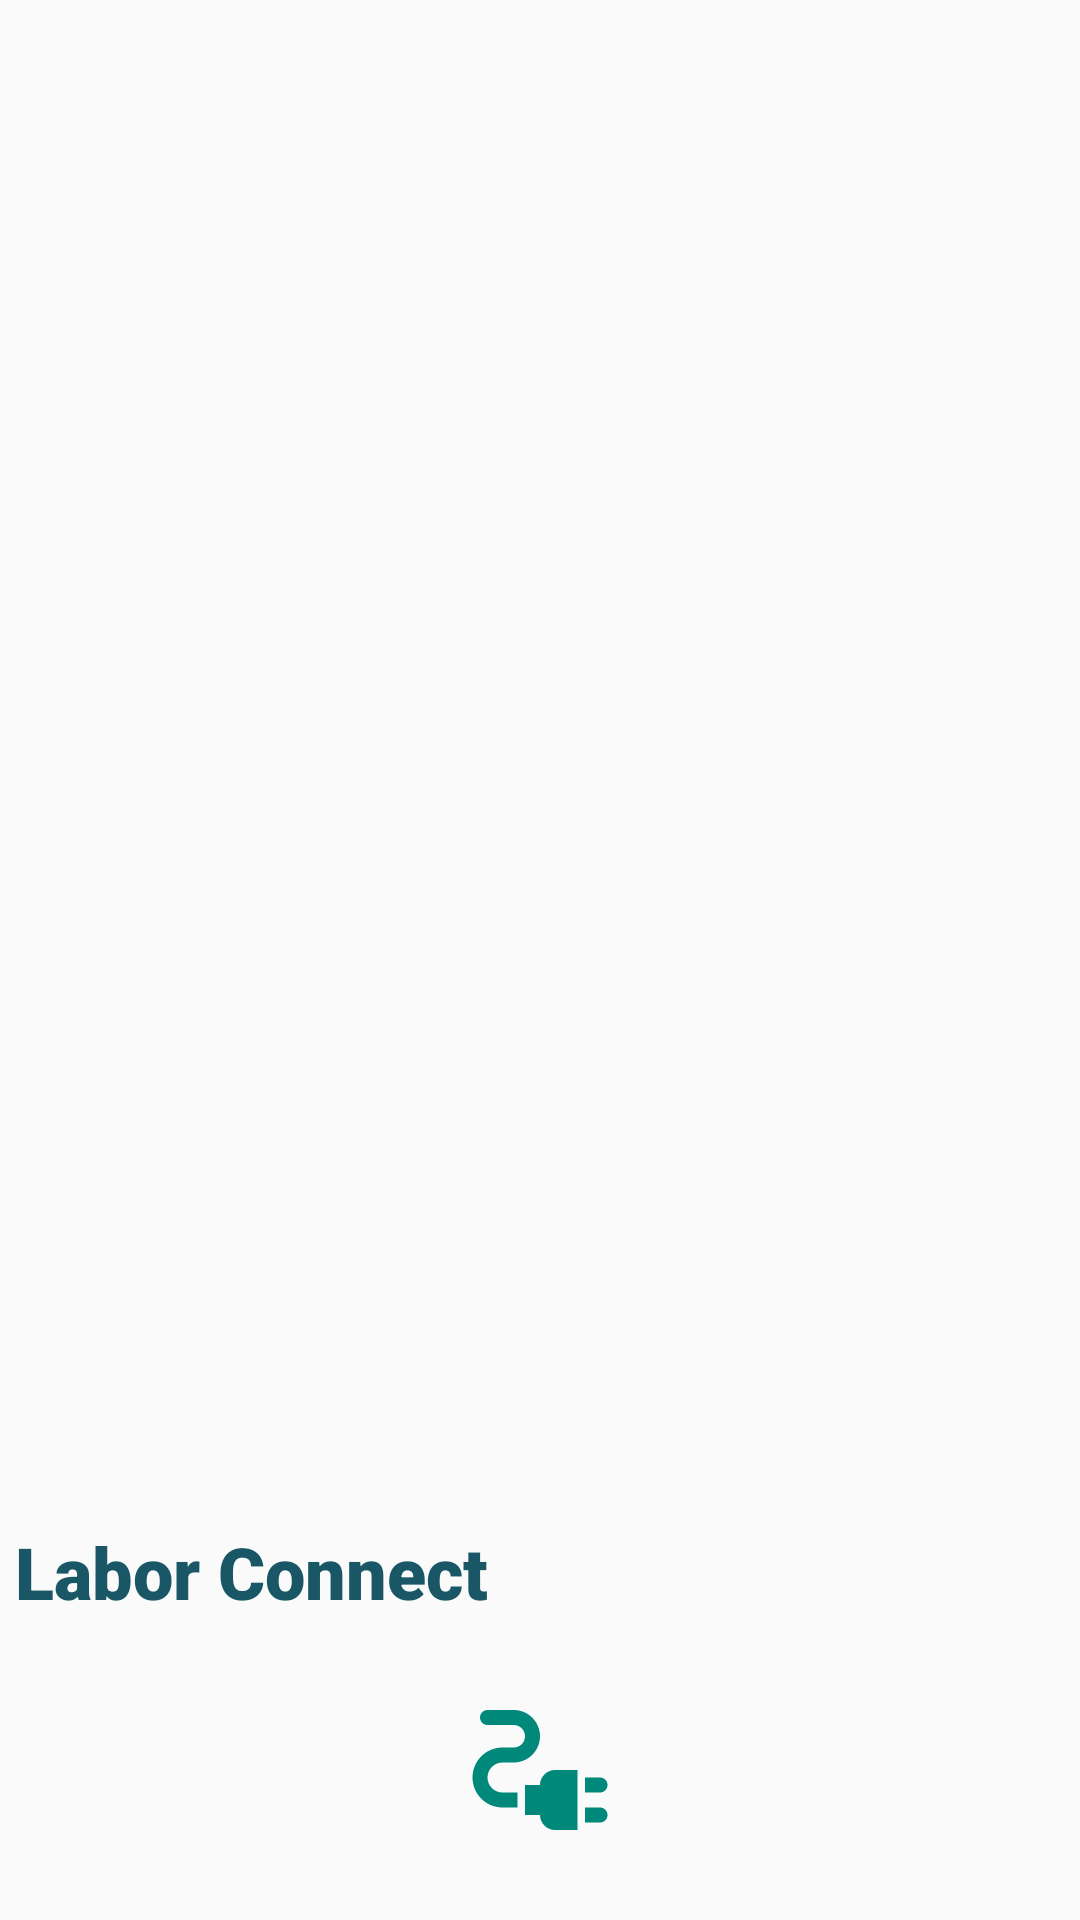

Named icons in this screenshot (1080 × 1920) and their bounding boxes, (x1, y1, x2, y2):
electrical services: (472, 1710, 608, 1830)
